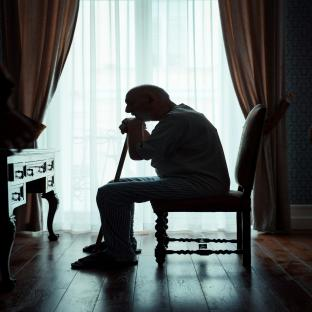Human: (71, 85, 230, 269), (83, 244, 95, 252)
